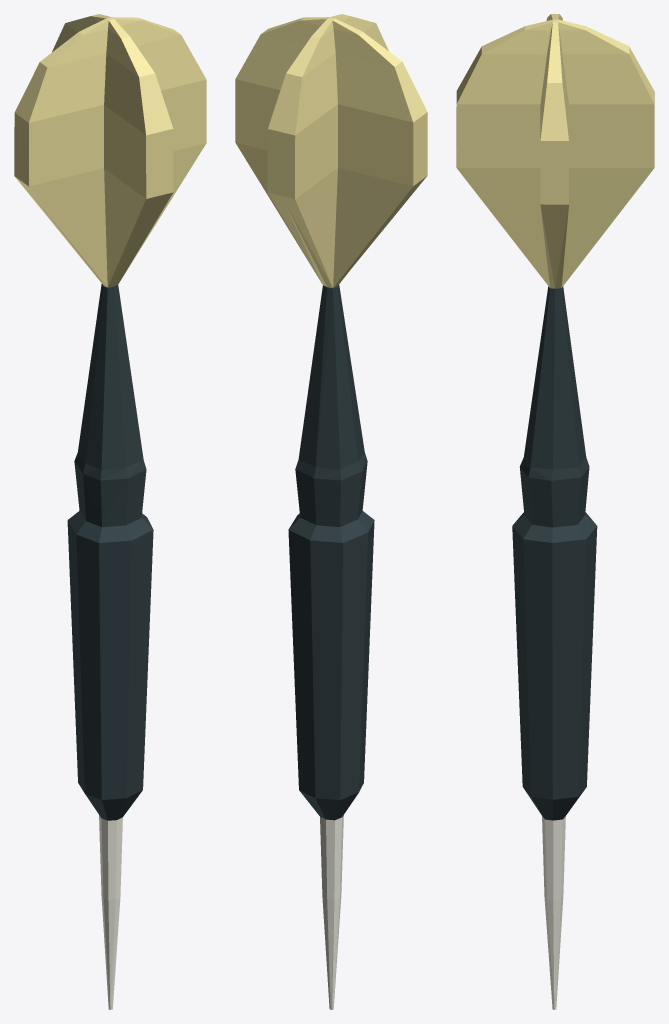
The model's file is Dart.FBX.
The picture shows the model from 3 angles, left to right: view 1: azimuth 30°, elevation 25°; view 2: azimuth 150°, elevation 25°; view 3: azimuth 270°, elevation 25°; orthographic projection.
Parts seen in each view (by area): view 1: Dart; view 2: Dart; view 3: Dart.
Boxes of the visible parts, left/top/right/bottom form: Dart: left=14, top=14, right=206, bottom=1009; Dart: left=235, top=14, right=427, bottom=1009; Dart: left=456, top=14, right=654, bottom=1009.
Size of the model in its own units: 137 by 731 by 133.
